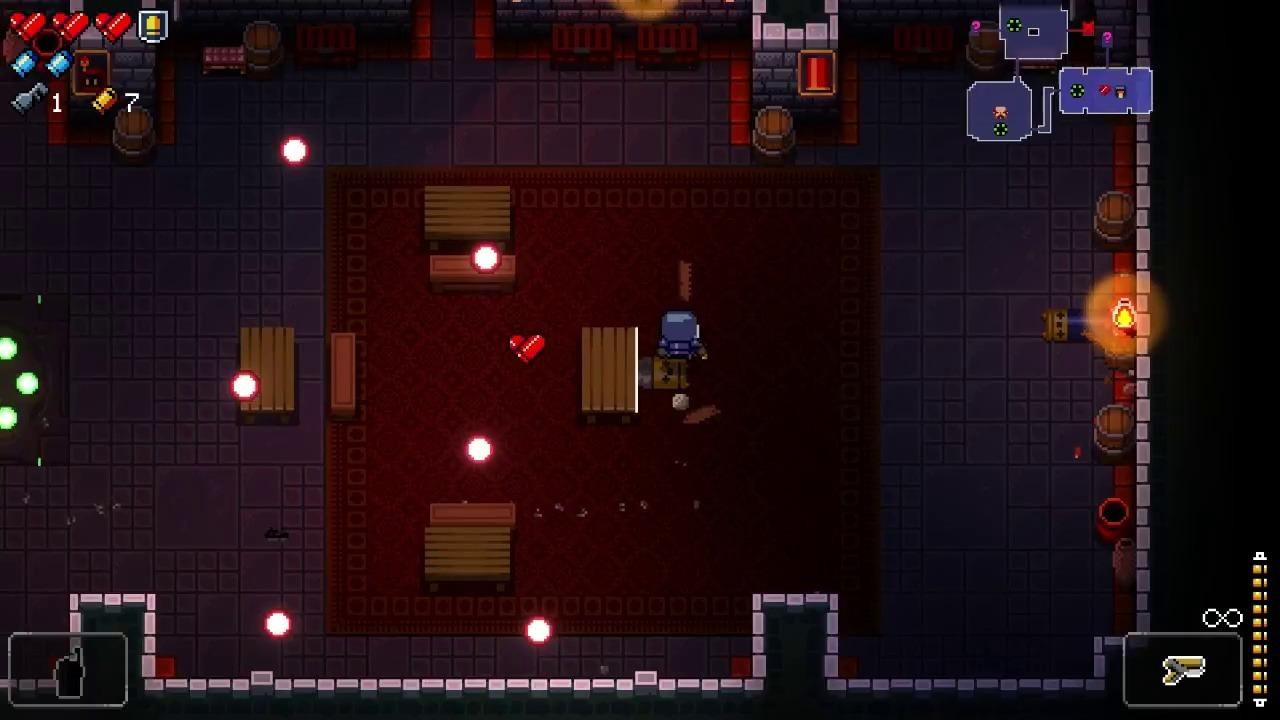bullet: (472, 242, 503, 275), (281, 135, 311, 166), (232, 372, 261, 402), (264, 610, 294, 639), (526, 616, 553, 647), (466, 436, 494, 463)
dead_blue_shotgun_kin: (1043, 306, 1115, 342)
dead_bullet_kin: (636, 357, 690, 389)
health: (509, 335, 546, 365)
player: (661, 310, 699, 365)
table: (425, 526, 511, 593), (424, 186, 511, 250), (239, 326, 295, 425), (582, 327, 638, 425)
teleporter: (0, 293, 71, 467)
